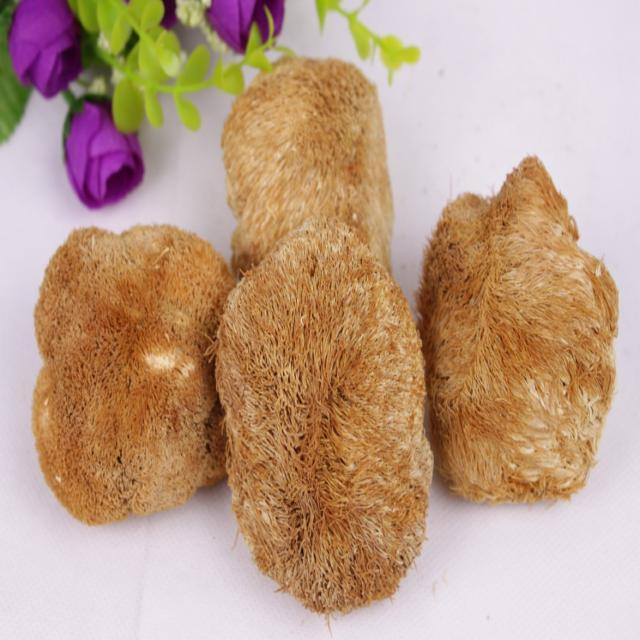Hericium erinaceus: (219, 221, 433, 614), (415, 157, 620, 503), (34, 221, 230, 521), (224, 57, 392, 281)
